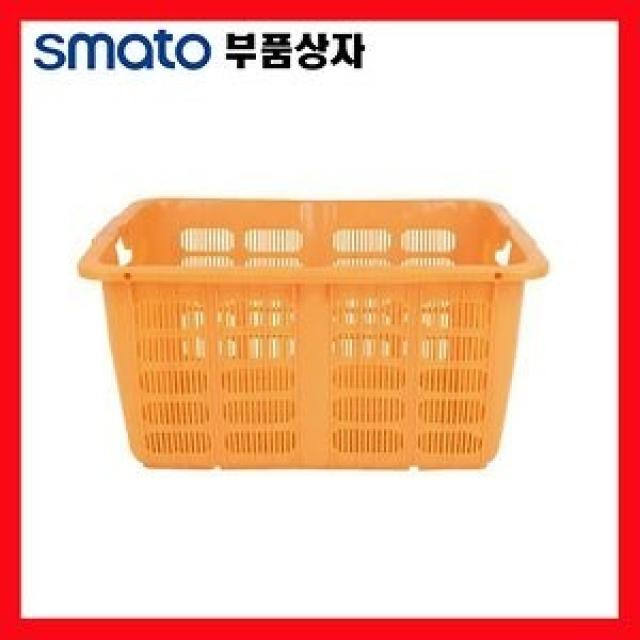basket: (78, 198, 551, 471)
